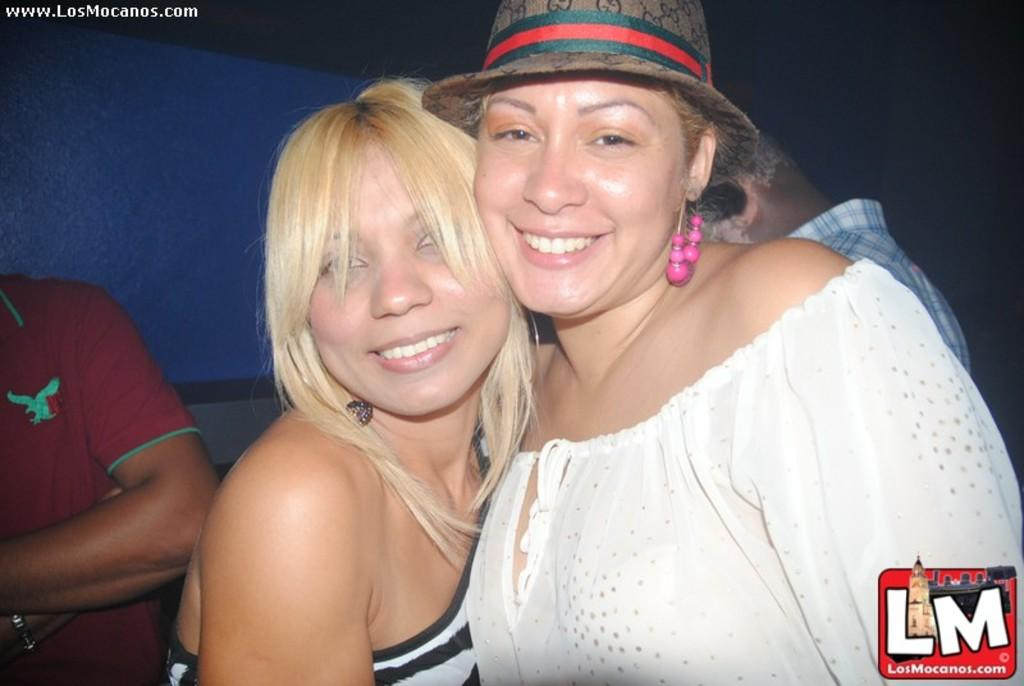Hat: (422, 0, 760, 176)
